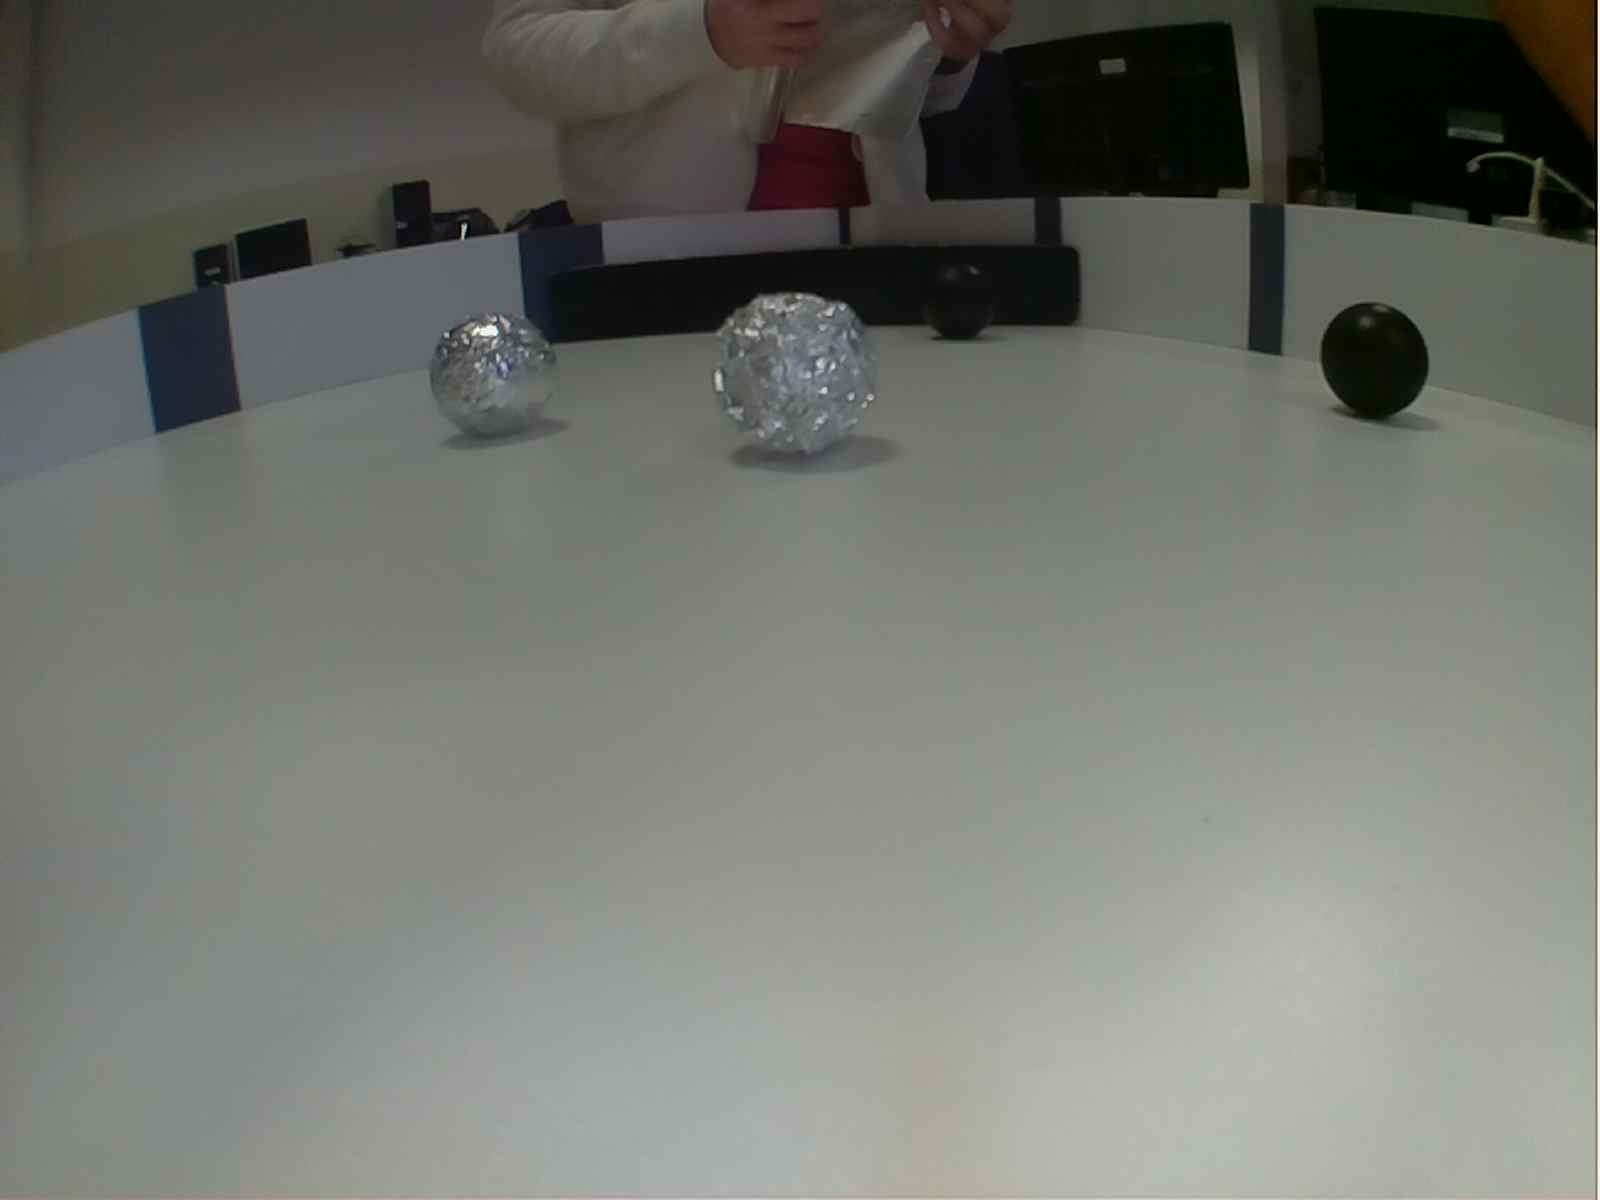bianca: (700, 297, 882, 458), (433, 310, 562, 436)
nera: (1315, 300, 1437, 424), (920, 257, 999, 342)
